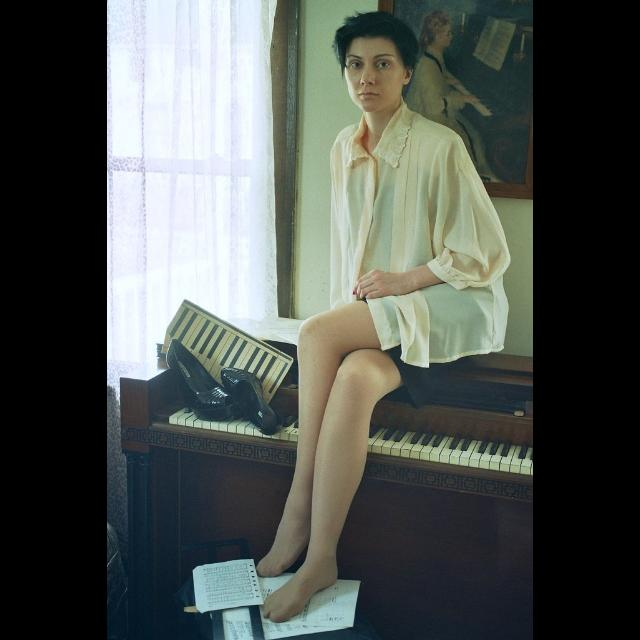top: (330, 123, 514, 355)
